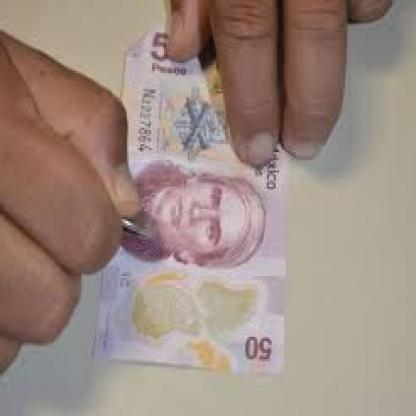billete: (88, 26, 287, 374)
